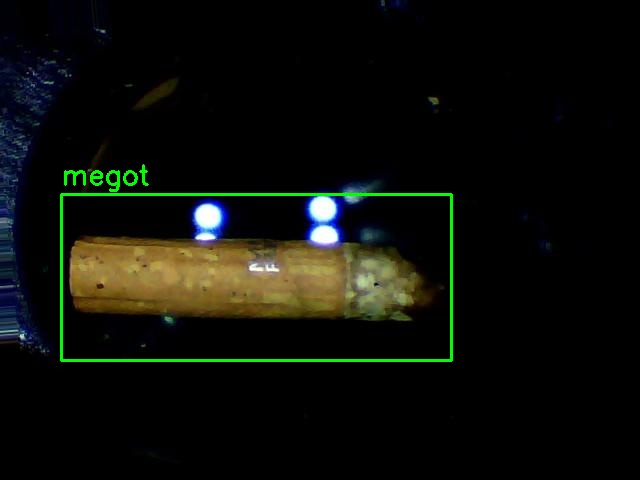megot: (61, 194, 451, 360)
